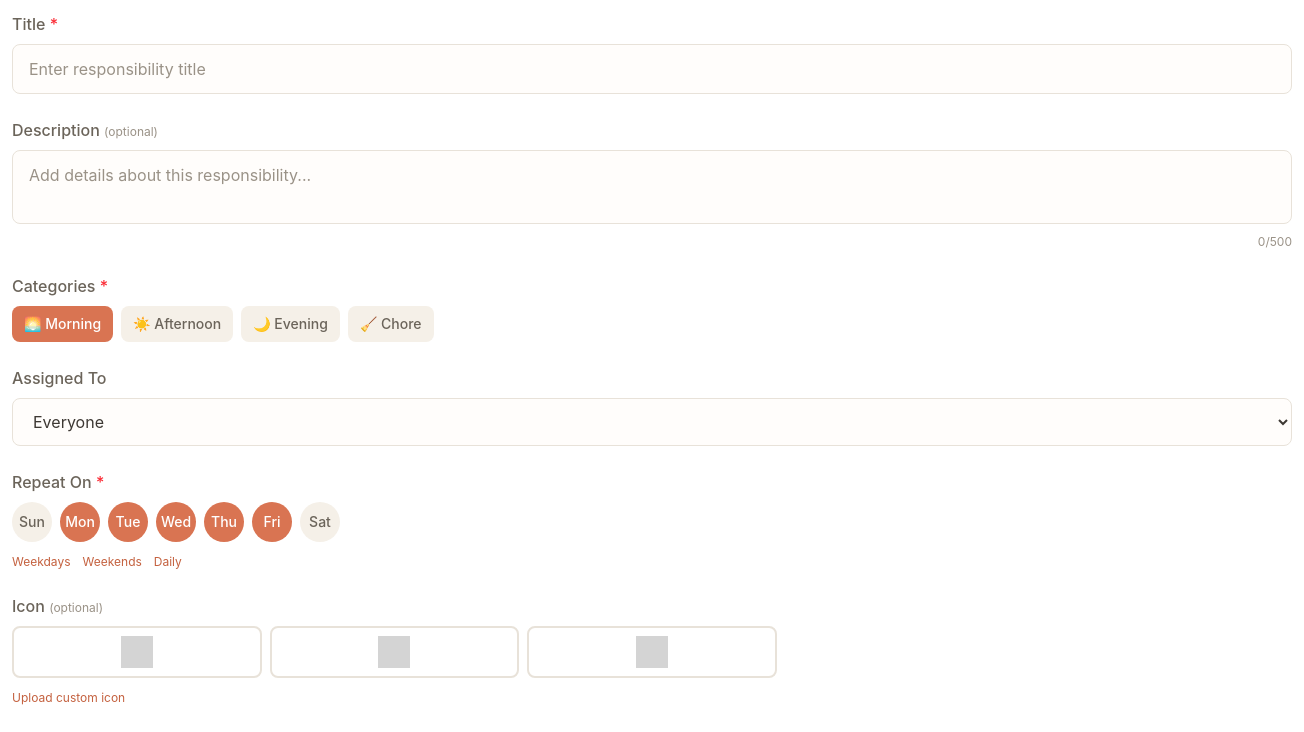
it: ResponsibilityForm › custom icon upload › toggles custom upload visibility
# Click to show
Click the button "Upload custom icon".
click(69, 698)  # box [12,690,125,706]
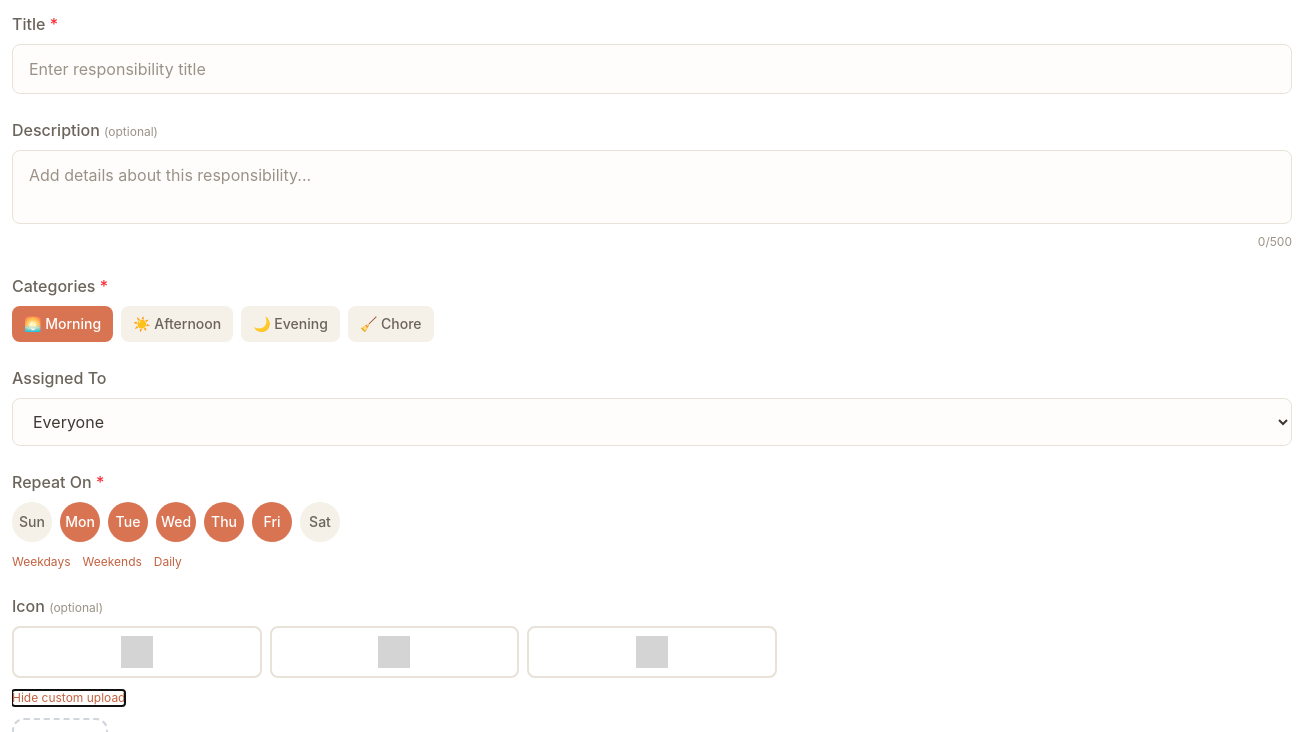
Expected: the button "Hide custom upload" is shown, [12,690,126,706]
